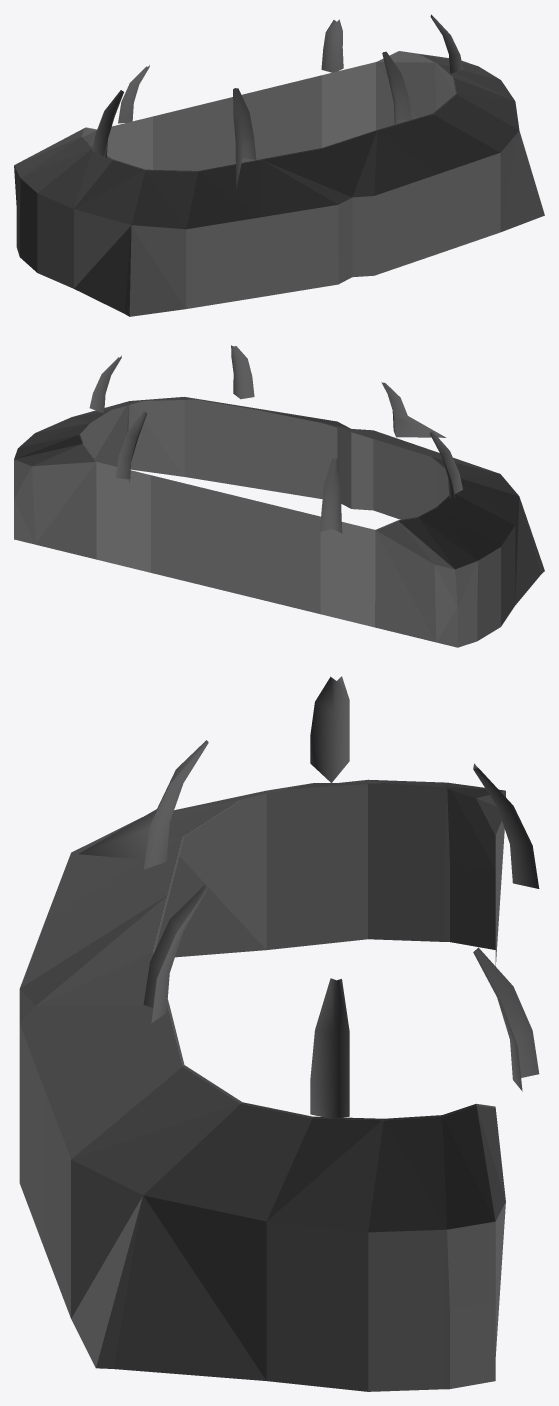
The picture shows the model from 3 angles, top to bottom: view 1: azimuth 30°, elevation 25°; view 2: azimuth 150°, elevation 25°; view 3: azimuth 270°, elevation 25°; orthographic projection. The views are drawn at different scales.
Visible parts, largest first — view 1: group_13; view 2: group_13; view 3: group_13.
Part boxes in pixels (box(x1,y1,x2,y2)): group_13: box(14, 14, 544, 316); group_13: box(14, 345, 544, 647); group_13: box(19, 676, 539, 1391).
Size of the model in its own units: 12458 by 4504 by 6045.
1 material, 1 textured.
